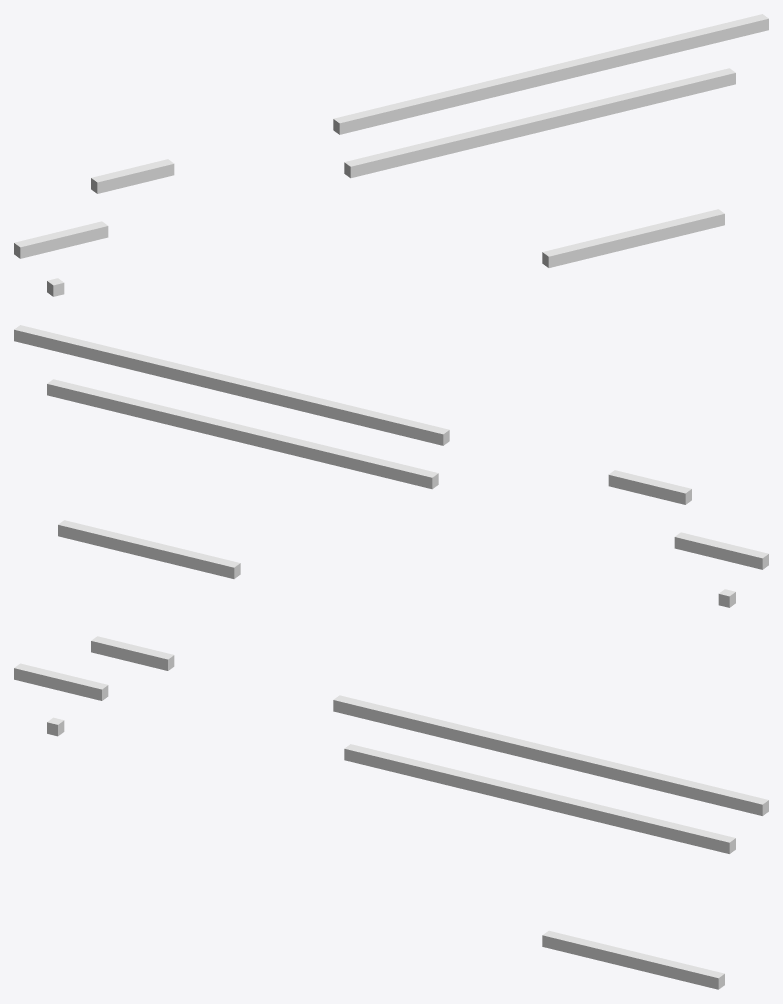
Rendered from Fight_026_2_08_fx.obj.
3 renders of one model, top to bottom at view 1: azimuth 30°, elevation 25°; view 2: azimuth 150°, elevation 25°; view 3: azimuth 330°, elevation 25°, orthographic.
Bounding box in the file's own units: 6.8 × 1.7 × 0.1.
Materials: 1 (1 with a texture image).
